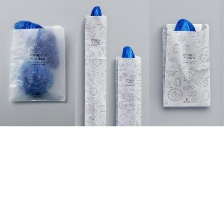snack: (3, 21, 71, 105), (155, 18, 215, 112), (79, 12, 110, 126), (110, 52, 146, 125)
